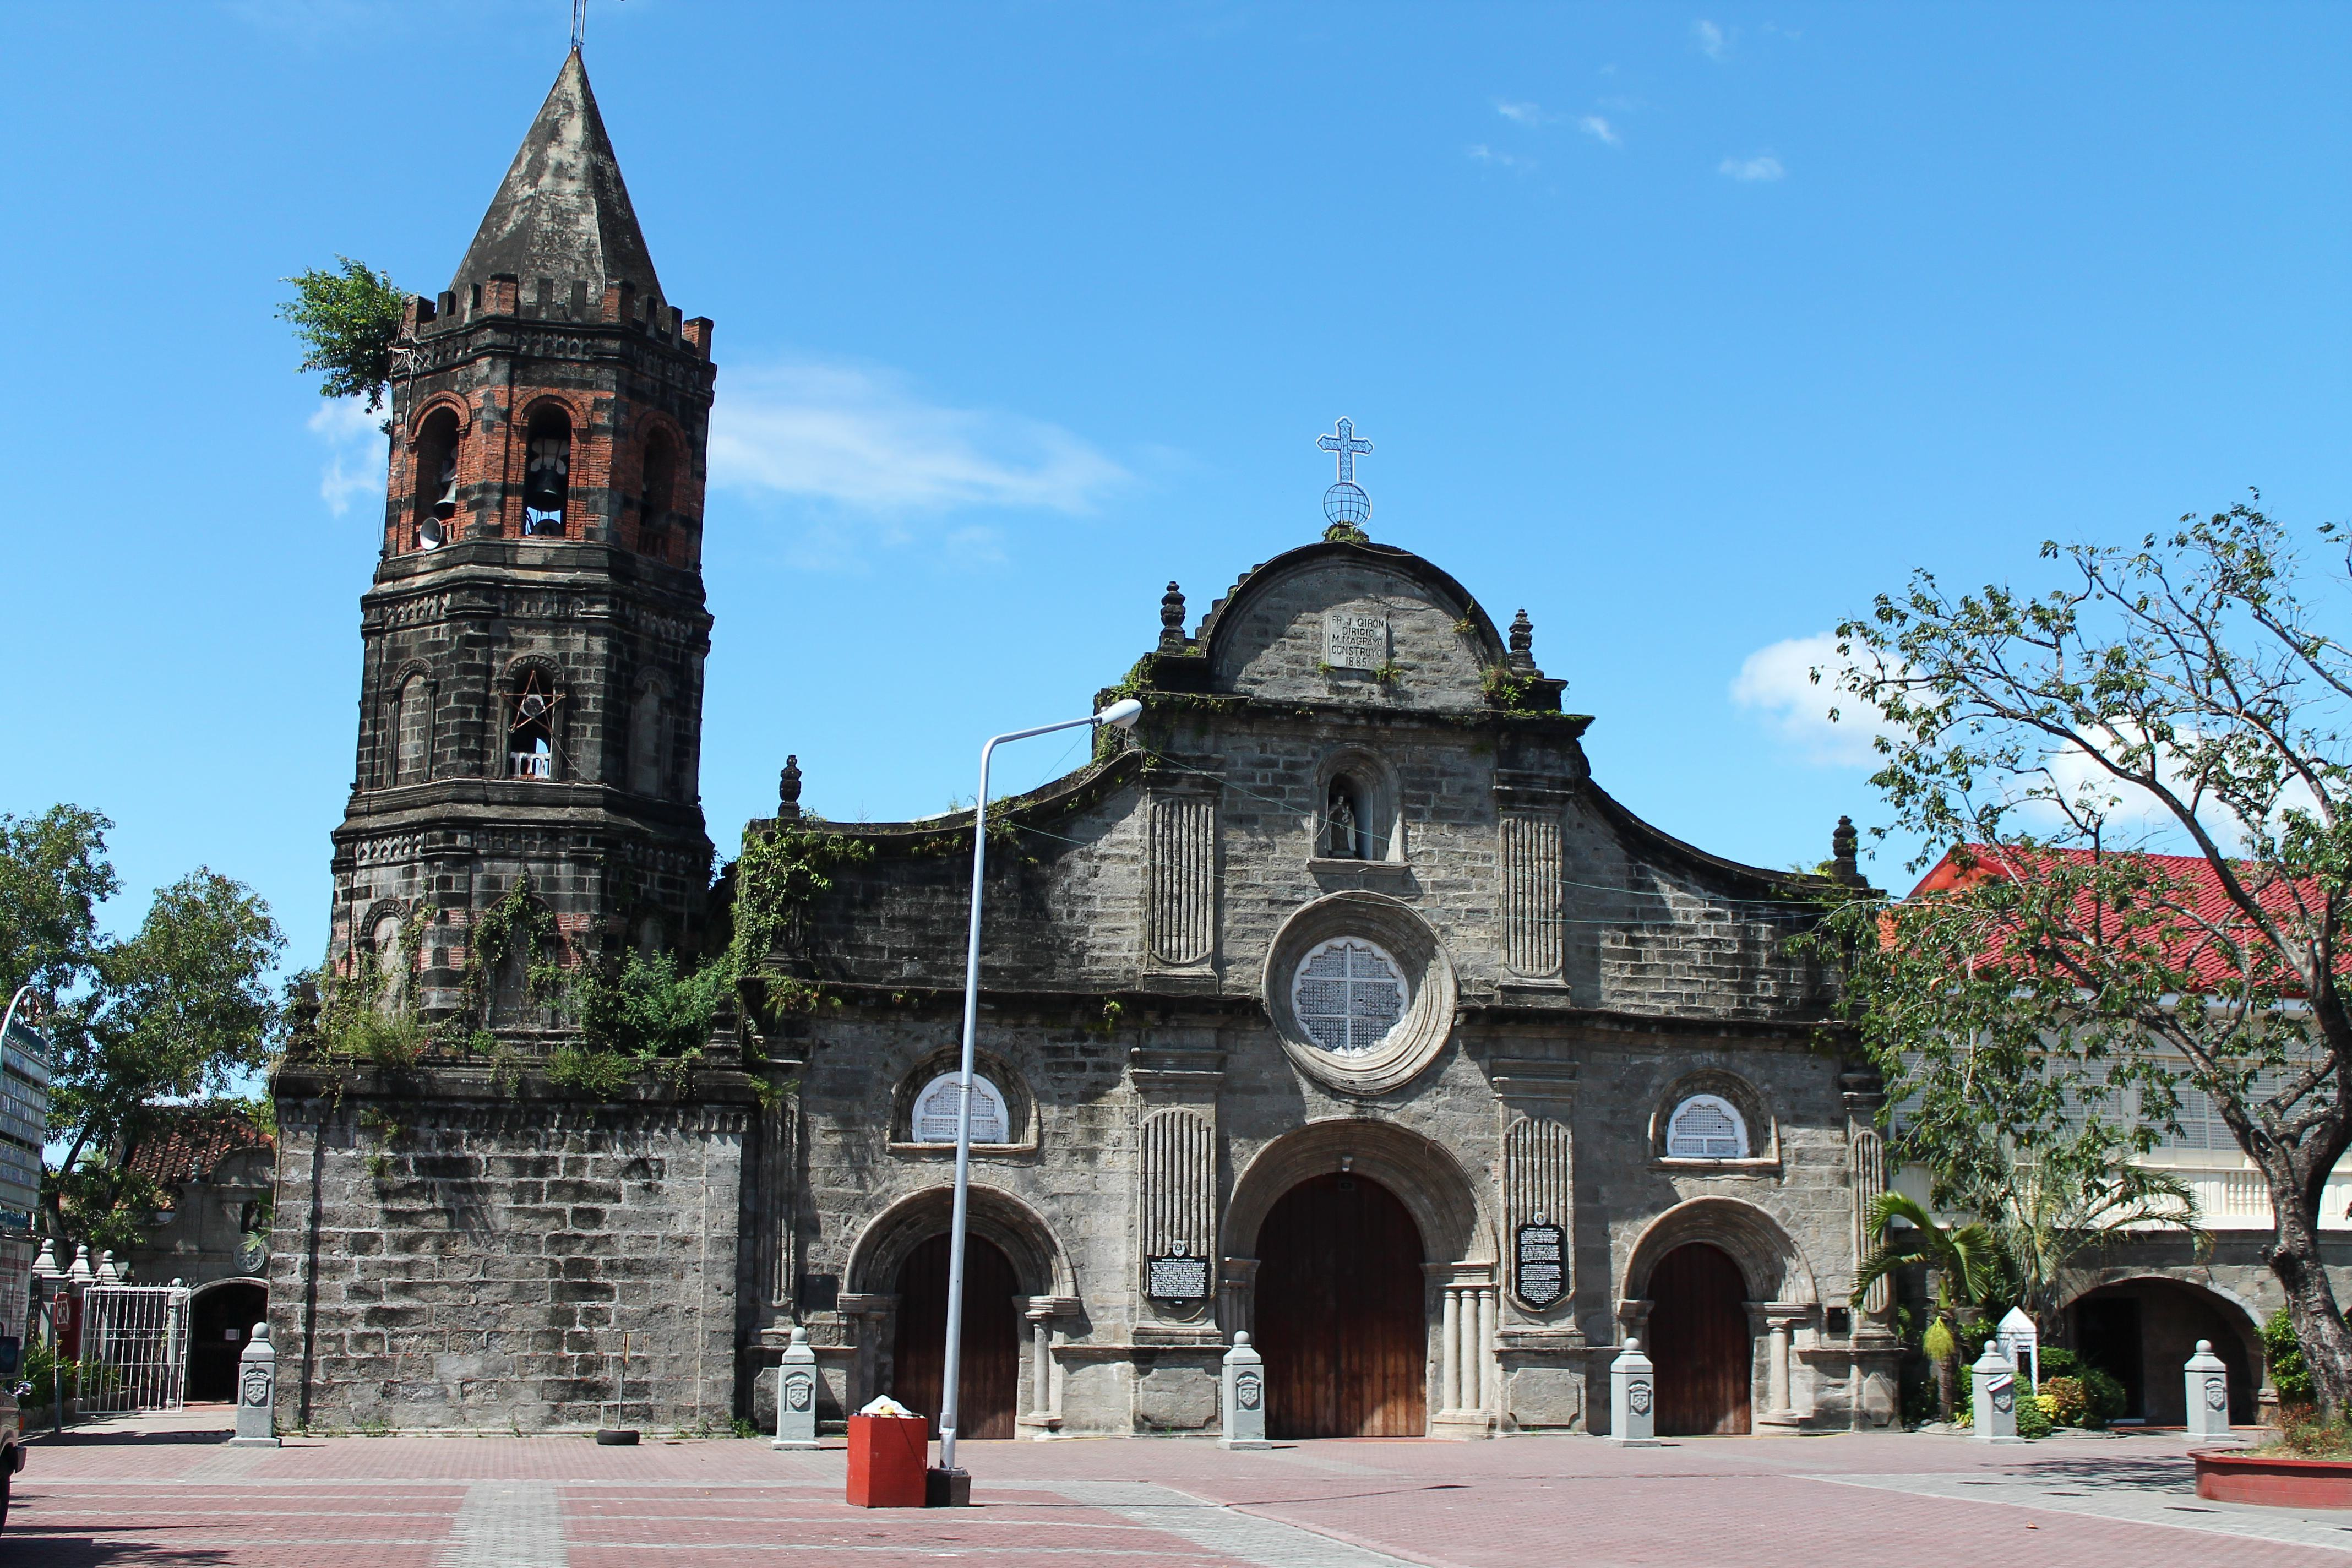barasoain_church_malolos_bulacan: (191, 23, 1921, 1445)
